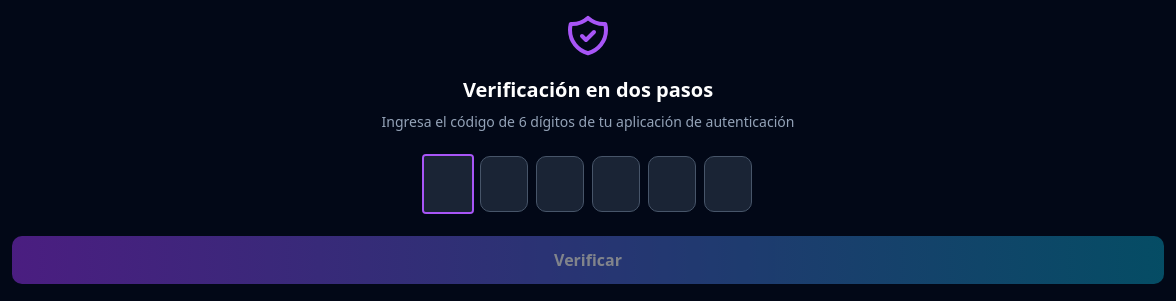
Test: TwoFactorVerify › Verification › should show loading state during verification
Type "1" into the field named "Dígito 1 de 6" at {"x": 448, "y": 184}, box [424,156,472,212]
Type "2" into the field named "Dígito 2 de 6" at {"x": 504, "y": 184}, box [480,156,528,212]
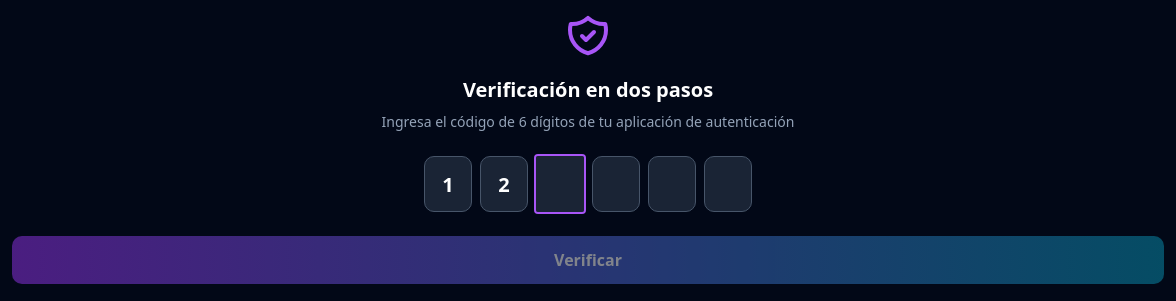
Type "3" into the field named "Dígito 3 de 6" at {"x": 560, "y": 184}, box [536,156,584,212]
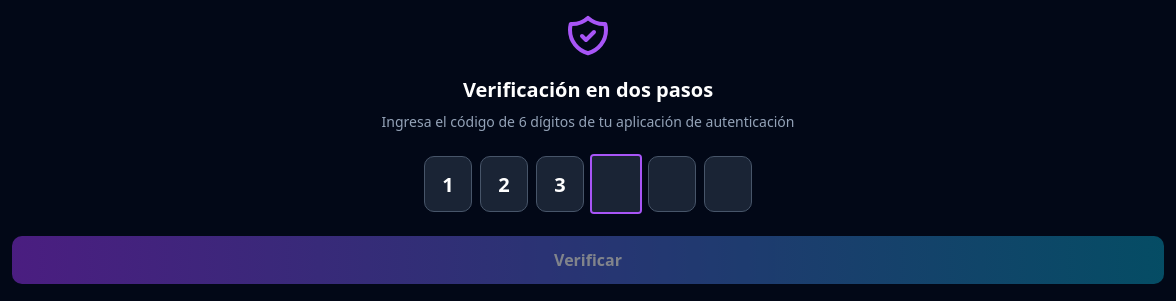
Type "4" into the field named "Dígito 4 de 6" at {"x": 616, "y": 184}, box [592,156,640,212]
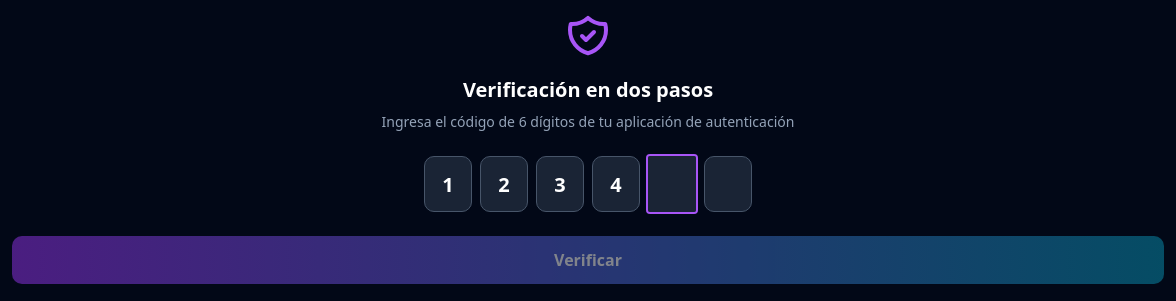
Type "5" into the field named "Dígito 5 de 6" at {"x": 672, "y": 184}, box [648,156,696,212]
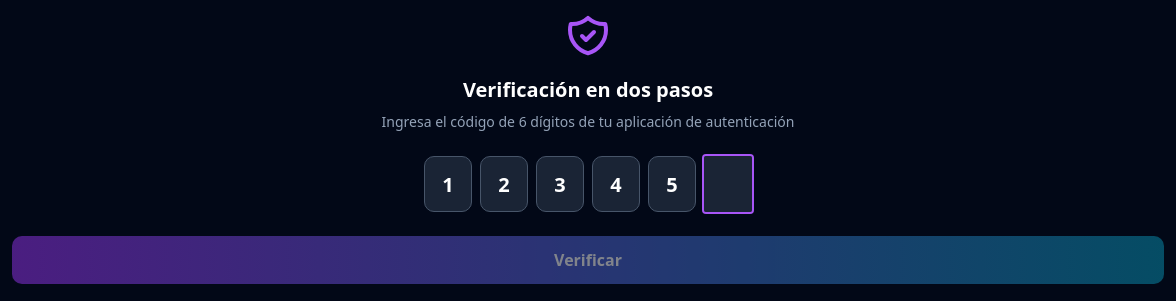
Type "6" into the field named "Dígito 6 de 6" at {"x": 728, "y": 184}, box [704,156,752,212]
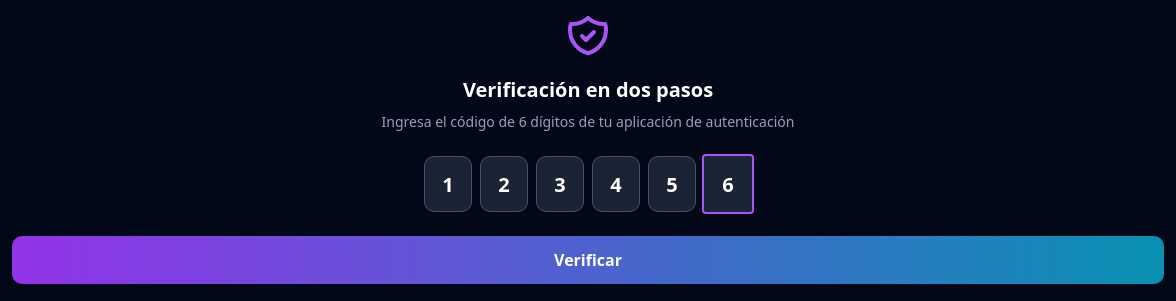
Click the button "Verificar" at {"x": 588, "y": 260}, box [12,236,1164,284]
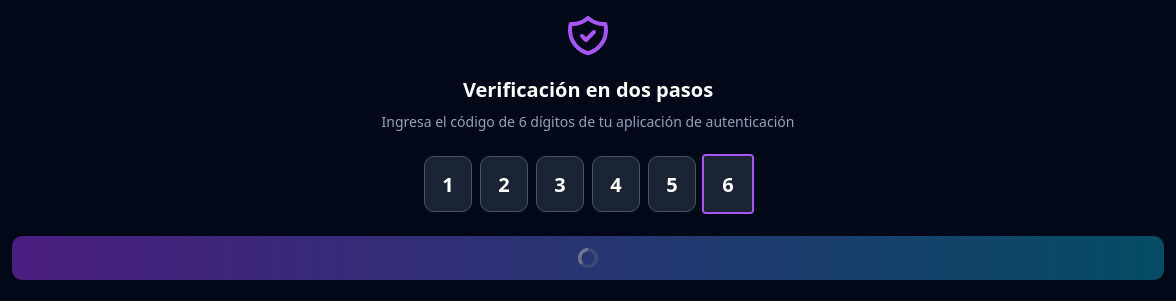
Result: the icon with test id "loading-spinner" is shown at [578,248,598,268]
